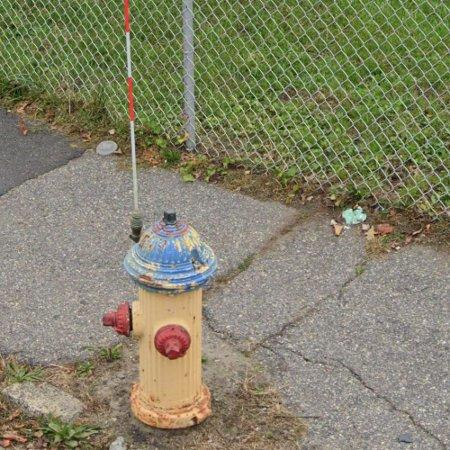a fire hydrant: (103, 212, 217, 429)
